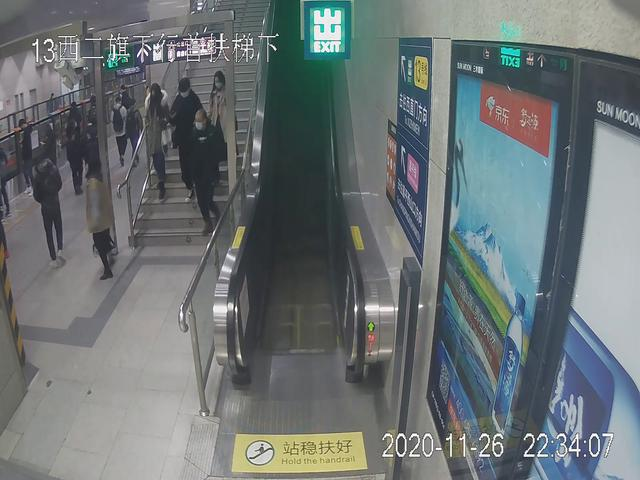person: (78, 157, 120, 283), (169, 76, 206, 201), (31, 153, 66, 267), (190, 110, 223, 230), (139, 84, 170, 203), (206, 72, 237, 156), (124, 96, 146, 161), (112, 98, 128, 164)
